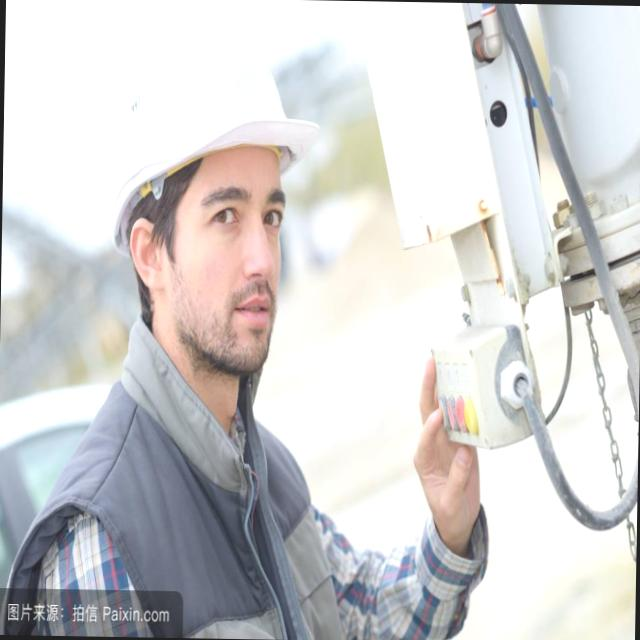helmet: (106, 37, 325, 193)
no-vest: (61, 352, 324, 636)
